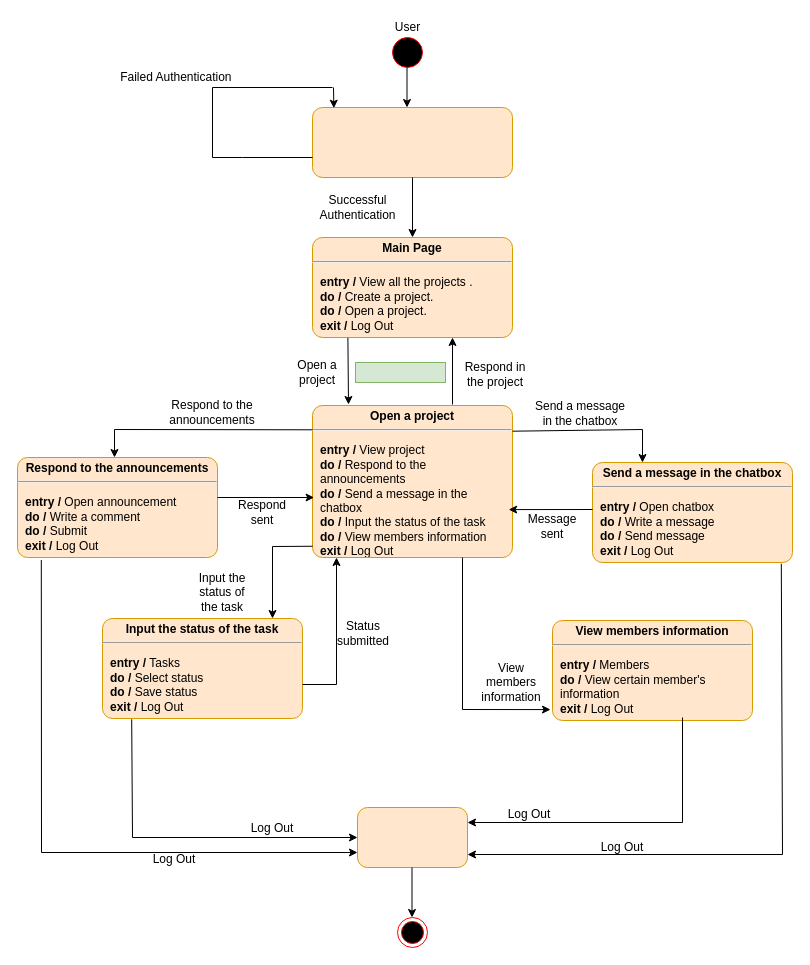
This 810x965 diagram has some shape labels left out. The shapes that lost their labels are listed below. From the top down, each one's centre as x and y in pixels, then its label:
At (x=412, y=142): "Log In entry / Enter Credentials exit / Authentication Successful".
At (x=400, y=372): "Team Member".
At (x=412, y=837): "Log Out exit / Logged Out".
